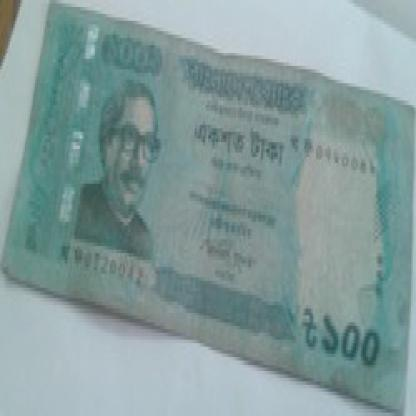one hundred taka: (318, 83, 389, 146), (322, 305, 384, 374), (102, 27, 166, 80)
